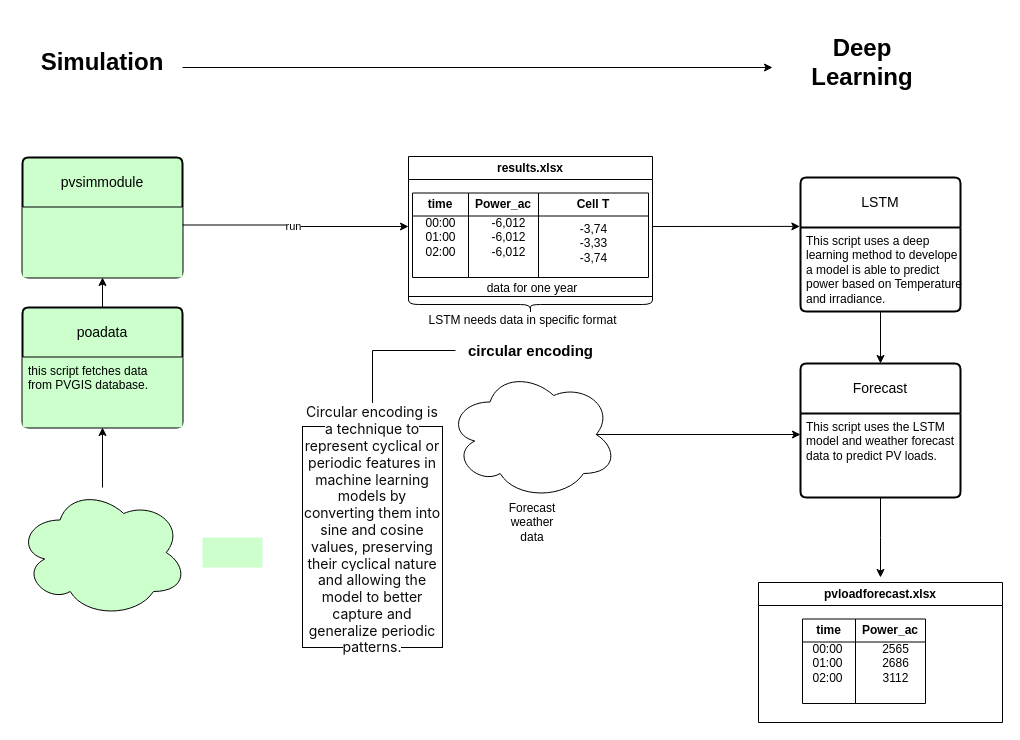
The diagram is 1020 pixels wide and 740 high, and some of its shapes have lost their labels. Each missing label, with the centre of its shape:
"Geospher API" goes at (532,434).
"Historical weather data" goes at (232,552).
"PVGIS" goes at (102,552).
"this script simulates the PV. Poadata is included in pvsimmodule" goes at (102,242).
